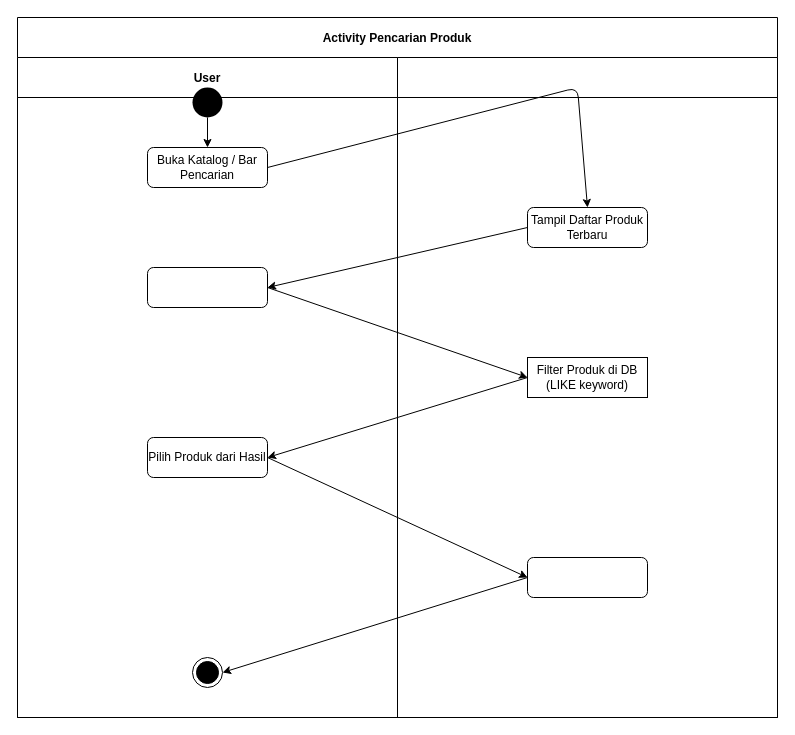
Some shapes in this 795 by 735 pixel diagram are drawn without their labels. Each missing label, with the box of its shape:
Input Keyword Produk: (146, 266, 268, 308)
Sistem: (396, 56, 778, 718)
Tampil ProductDetailScreen: (526, 556, 648, 598)
